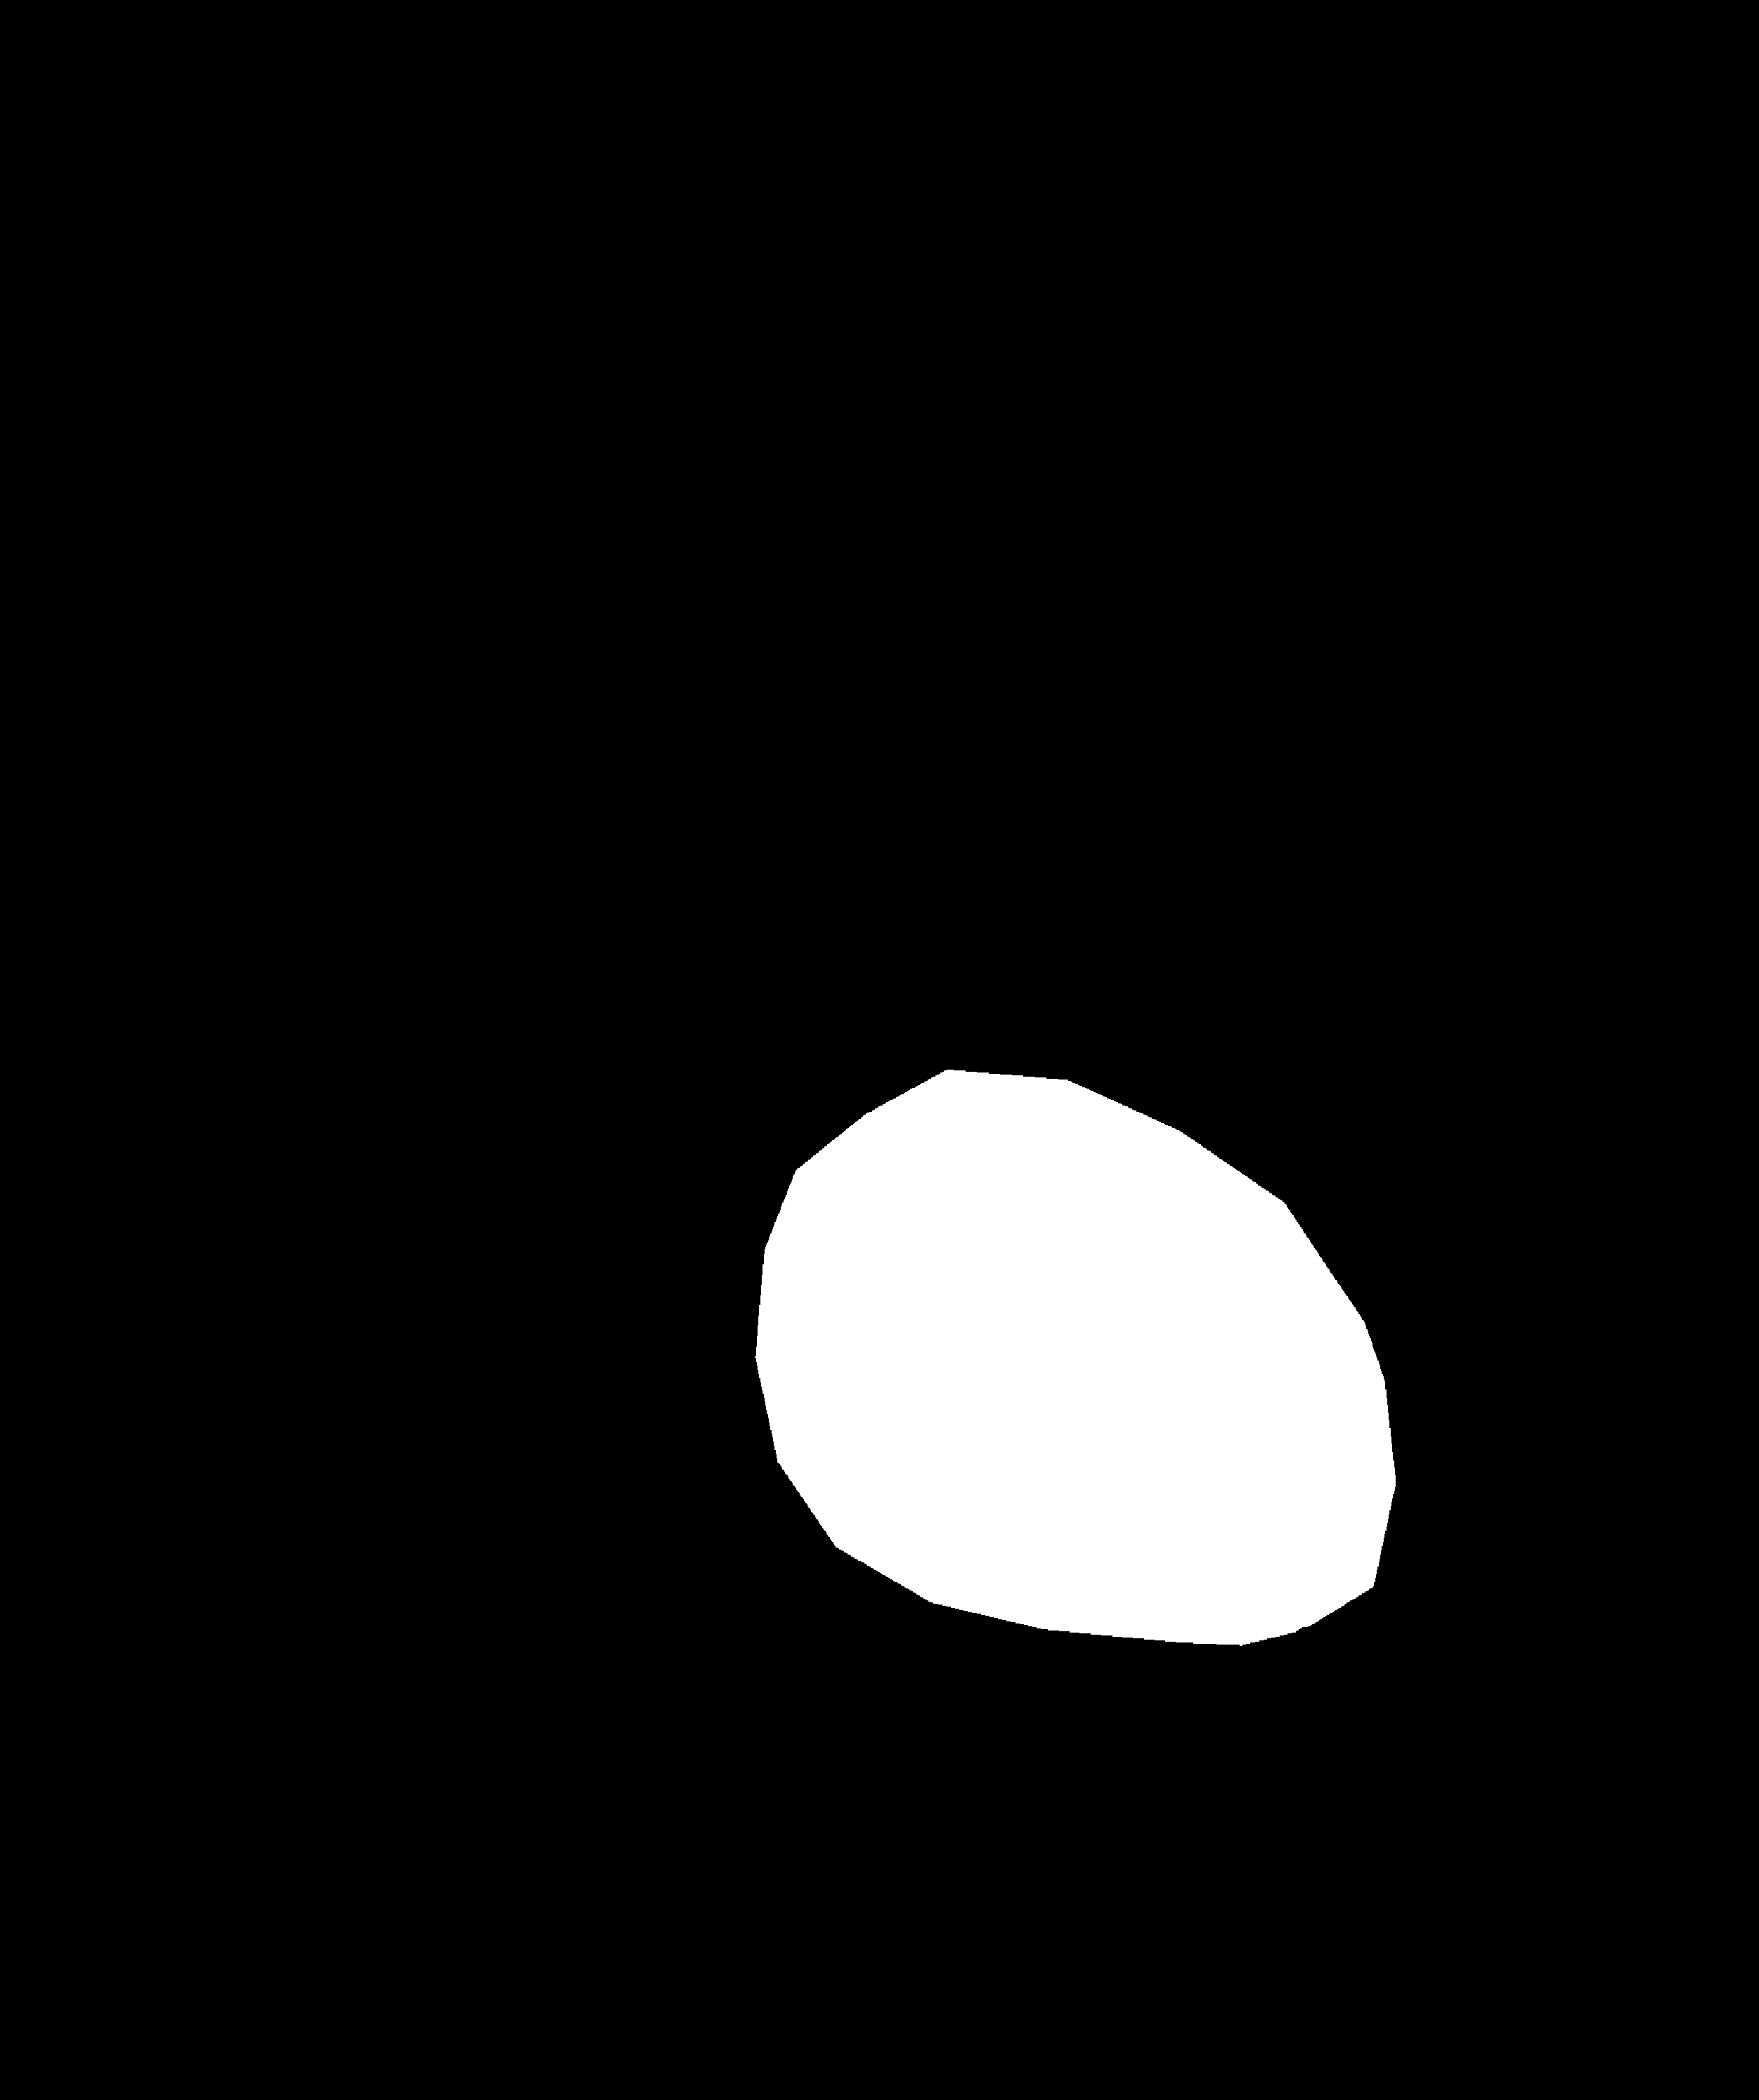heart: (777, 1096, 1407, 1678)
left_lung: (148, 264, 815, 1819)
right_lung: (1145, 435, 1583, 1679)
